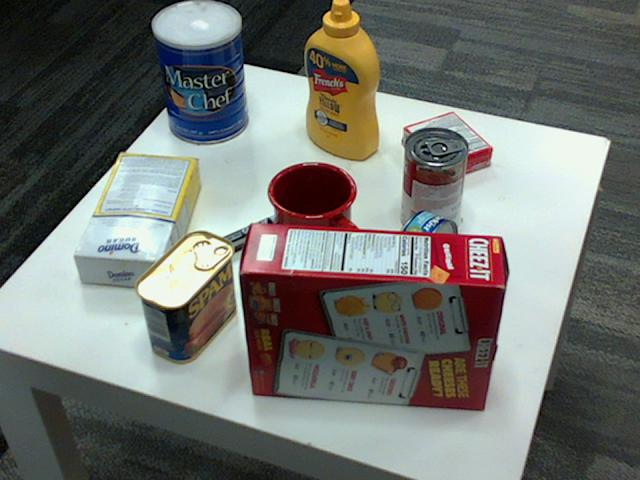cracker_box: (238, 222, 504, 407)
gelatin_box: (404, 111, 494, 180)
large_marker: (200, 206, 300, 265)
master_chef_can: (150, 0, 246, 143)
mug: (267, 158, 362, 267)
mustard_bottle: (304, 0, 378, 159)
potted_meat_can: (135, 230, 235, 363)
sugar_box: (74, 150, 200, 284)
tomato_soup_can: (400, 127, 467, 237)
tuna_fish_can: (386, 209, 457, 297)
